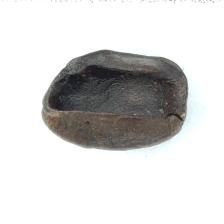NG: (41, 50, 184, 125)
